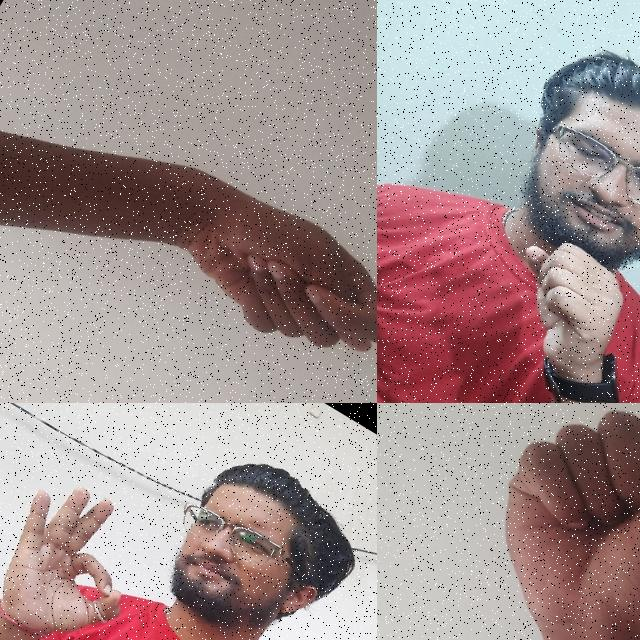Dulya: (134, 150, 377, 396), (433, 403, 640, 640)
Fist Mouth: (414, 20, 640, 403)
Okay: (0, 445, 178, 640)
